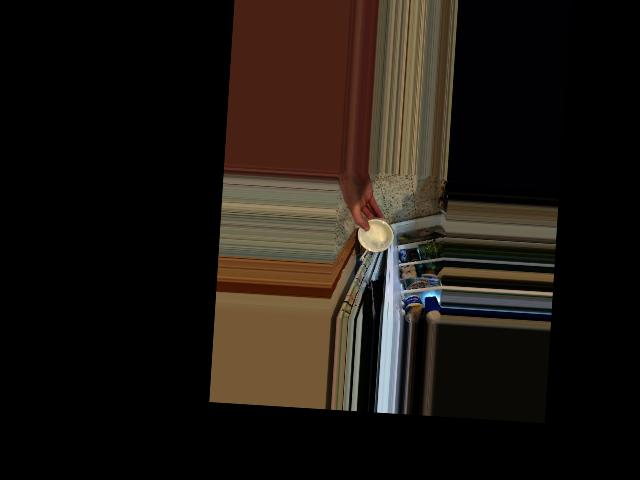cotage: (357, 217, 395, 255)
